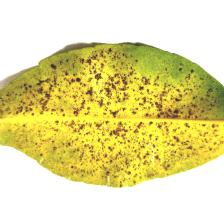canker: (19, 63, 194, 164)
